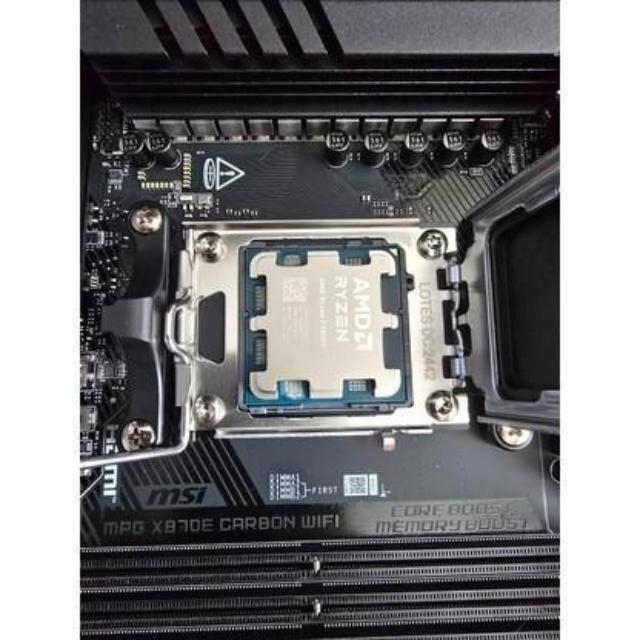CPU: (245, 243, 403, 403)
